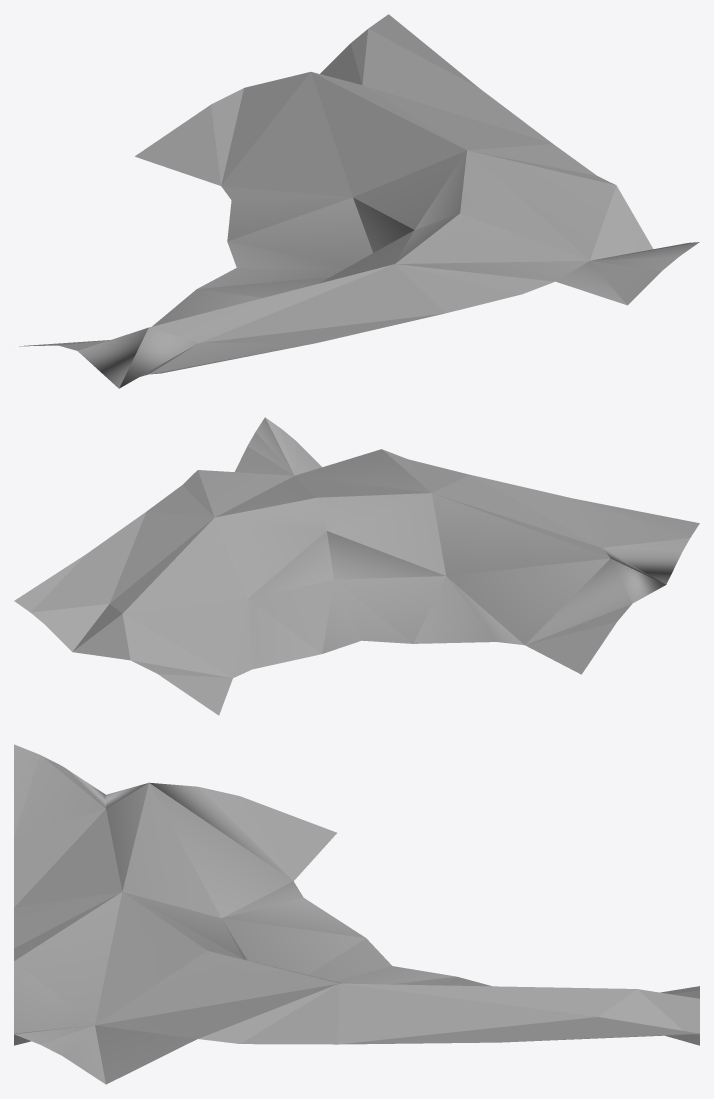
File: FloorCornerCliff2.fbx
3 renders of one model, top to bottom at view 1: azimuth 30°, elevation 25°; view 2: azimuth 150°, elevation 25°; view 3: azimuth 270°, elevation 25°, orthographic. The views are drawn at different scales.
Visible parts, largest first — view 1: FloorCornerCliff2; view 2: FloorCornerCliff2; view 3: FloorCornerCliff2.
Part boxes in pixels (x1,y1,x2,y2): FloorCornerCliff2: [19, 14, 699, 388]; FloorCornerCliff2: [14, 417, 699, 715]; FloorCornerCliff2: [14, 744, 699, 1084].
Bounding box in the file's own units: 500 × 75.08 × 500.
